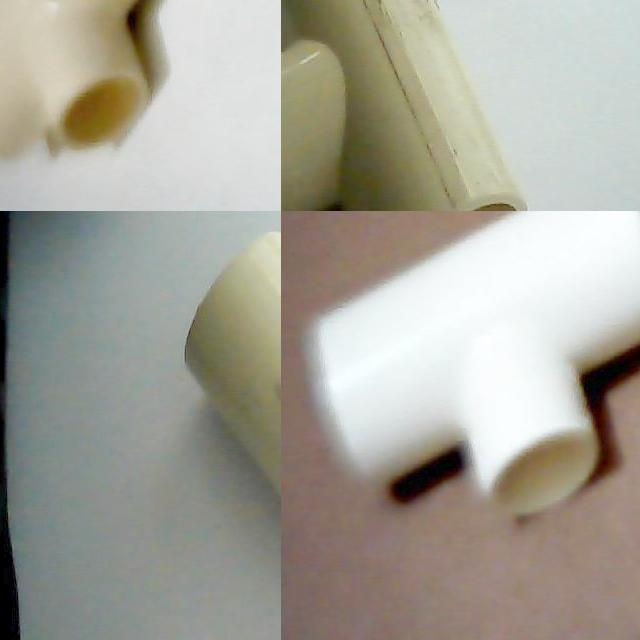T Joint: (303, 211, 640, 518), (281, 0, 528, 211), (182, 231, 281, 502)
